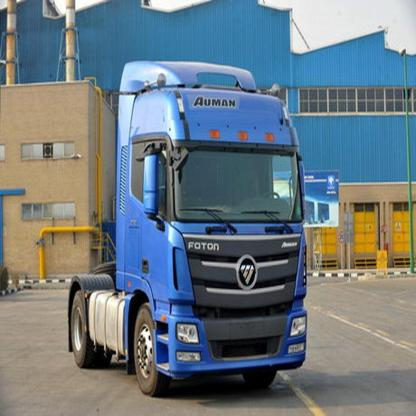Truck: (66, 84, 312, 406)
